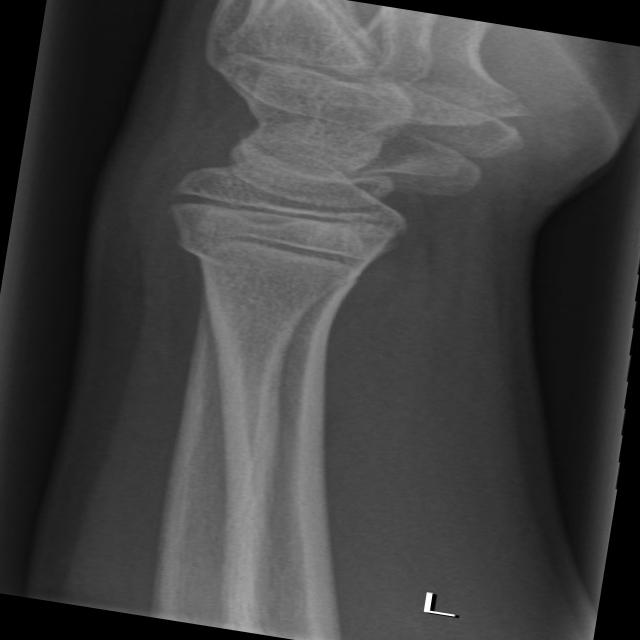fracture: (142, 171, 436, 258), (182, 216, 420, 290)
